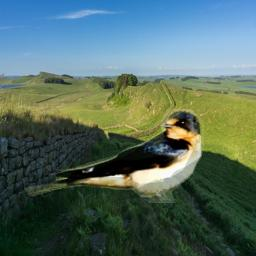Swallow: (24, 109, 204, 203)
